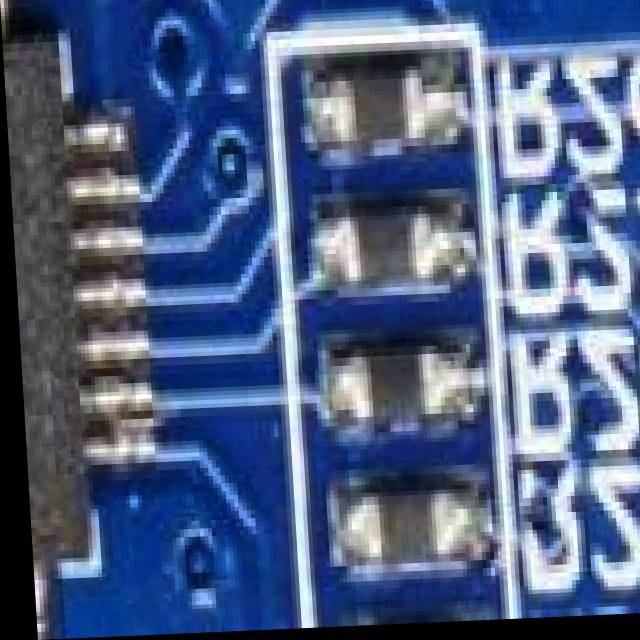IC: (0, 0, 131, 580)
resistor: (340, 336, 473, 445), (339, 484, 483, 573), (319, 55, 442, 157), (326, 207, 449, 301)
